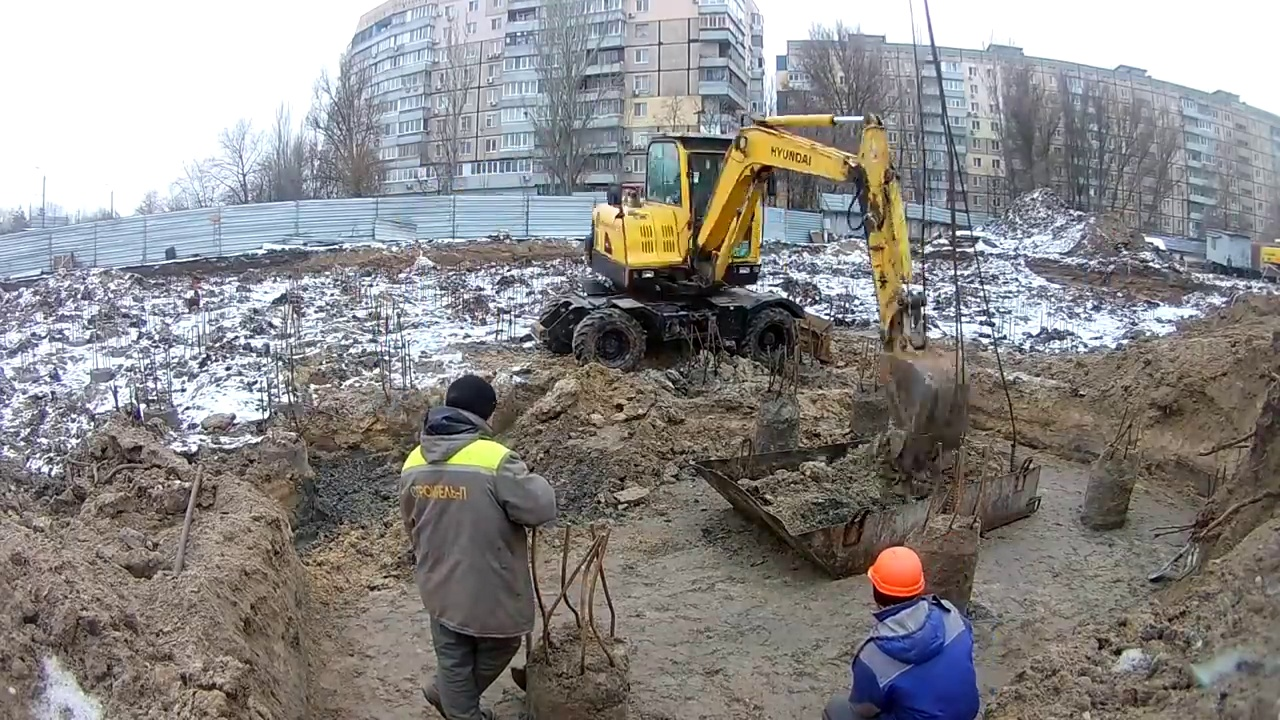helmet: (866, 548, 925, 597)
helmet-off: (427, 374, 497, 454)
helmet-on: (866, 547, 929, 612)
person: (398, 378, 558, 720), (847, 548, 976, 716)
